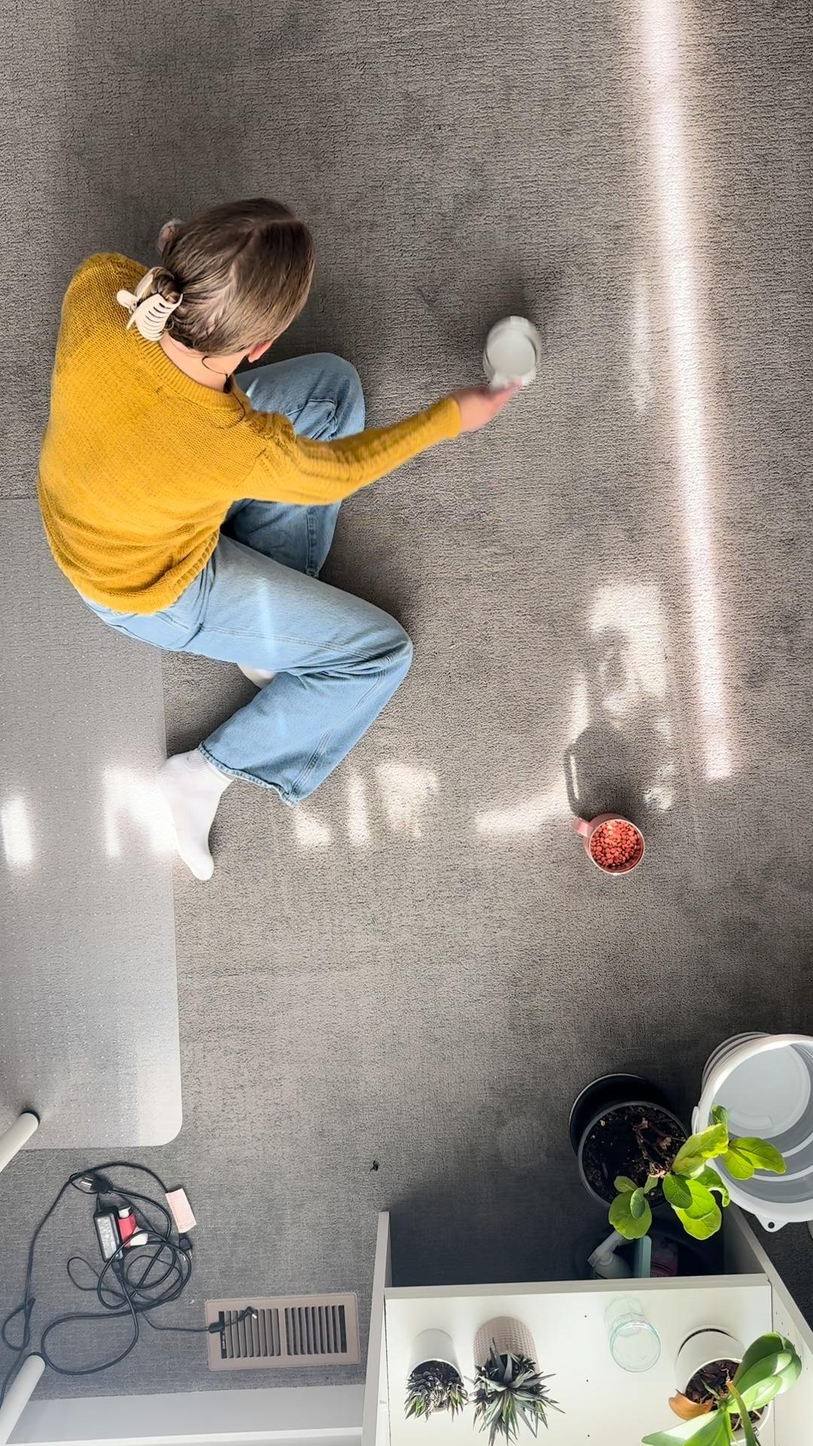IBC: (562, 798, 660, 885), (474, 309, 551, 398)
